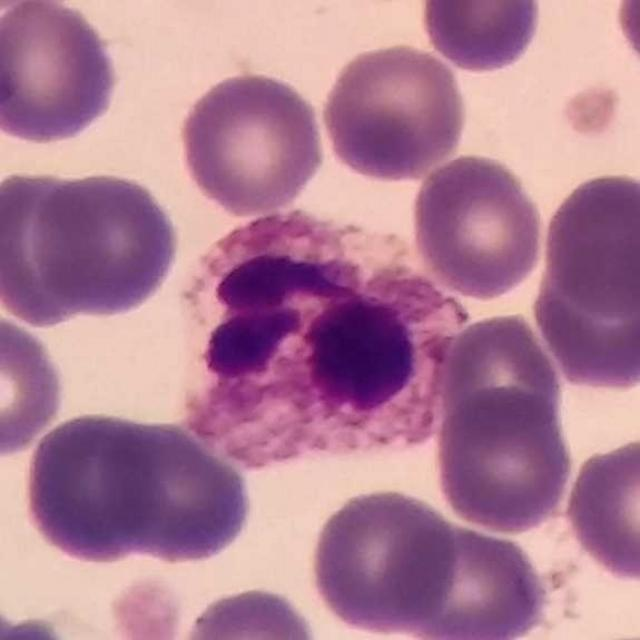Neutrophil: (173, 210, 474, 480)
Platelets: (103, 580, 186, 640), (558, 80, 626, 143)
RBC: (305, 483, 461, 638), (98, 417, 257, 568), (29, 168, 184, 321), (19, 408, 166, 566), (175, 67, 328, 217), (406, 149, 549, 303), (317, 39, 470, 182), (431, 385, 576, 535), (388, 518, 553, 640), (0, 0, 124, 148), (438, 308, 566, 441), (528, 248, 640, 391), (0, 166, 97, 327), (537, 166, 640, 317), (561, 431, 640, 585), (0, 310, 69, 460), (415, 0, 547, 76), (174, 582, 322, 640), (610, 1, 640, 85)
